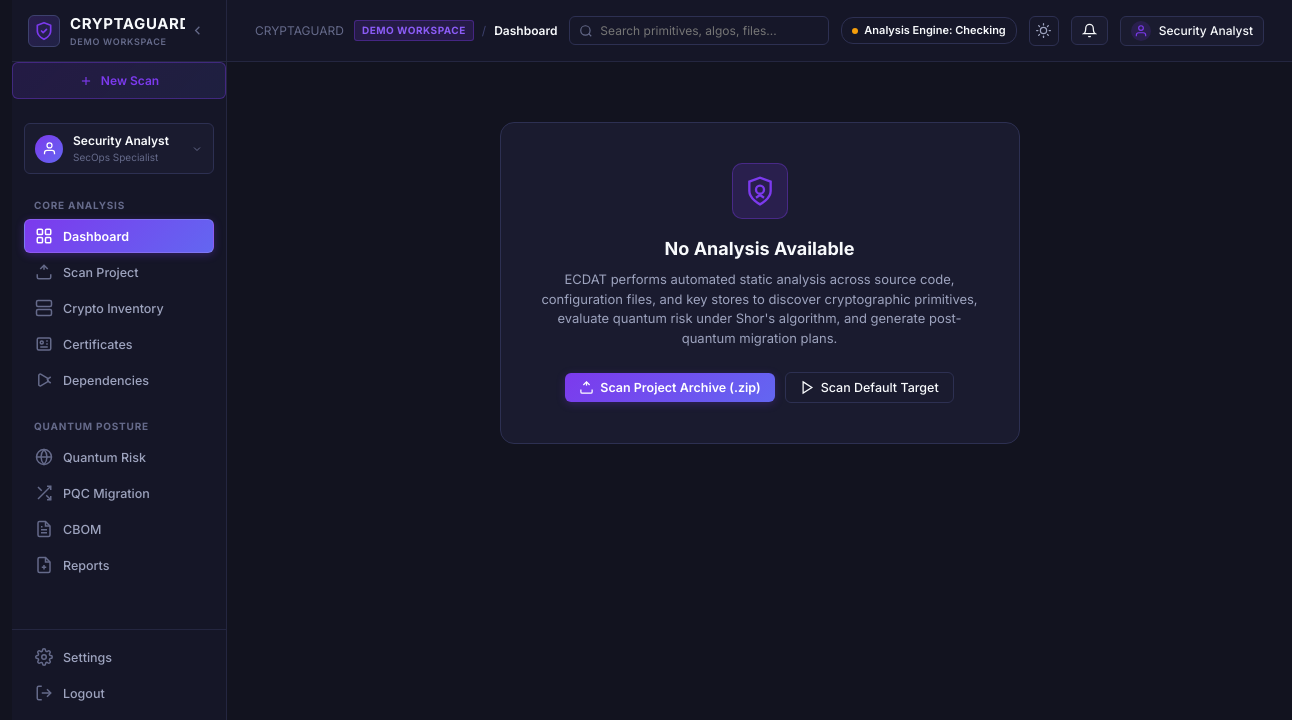
Scenario: Authentication & Session Prototype Tests › 6. Full App: Logout clears session and restores LoginScreen
The image size is (1292, 720).
// Click logout
Click the button "Logout" at [119, 693], box [24,676,214,710]
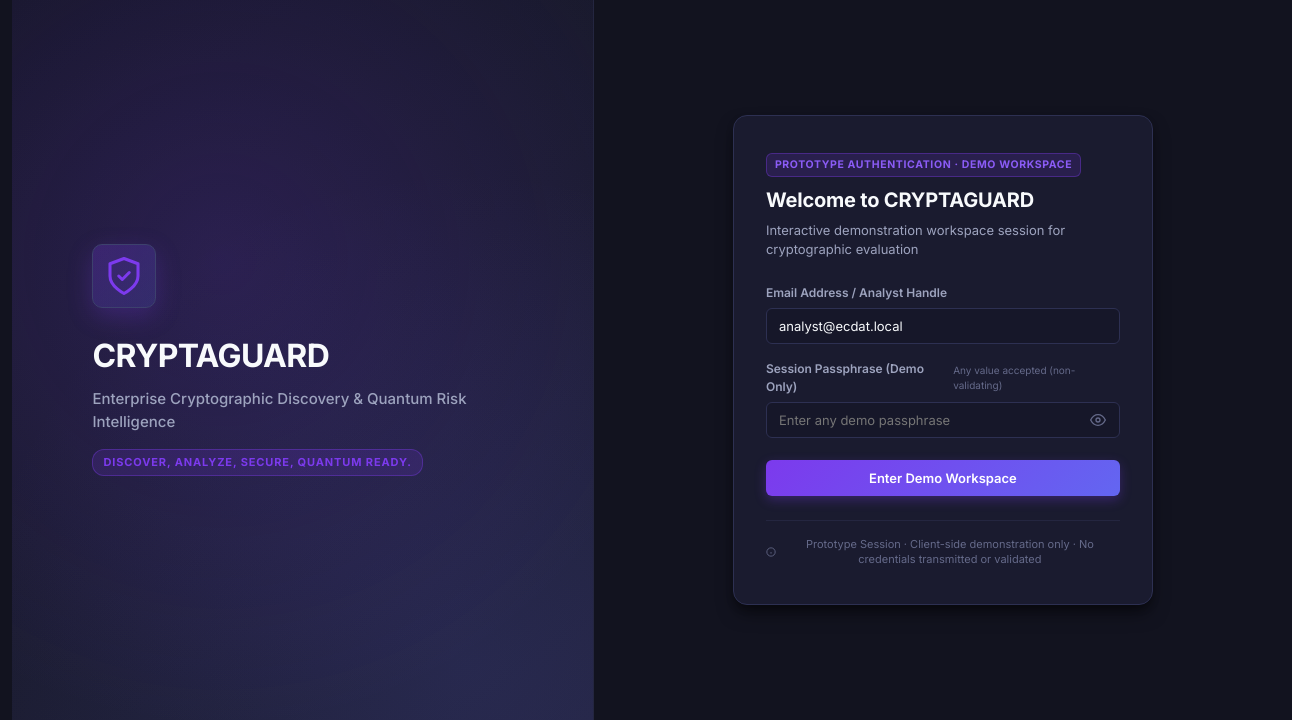
Expected: the text "Prototype Authentication · Demo Workspace" is shown, [766,153,1081,177]
